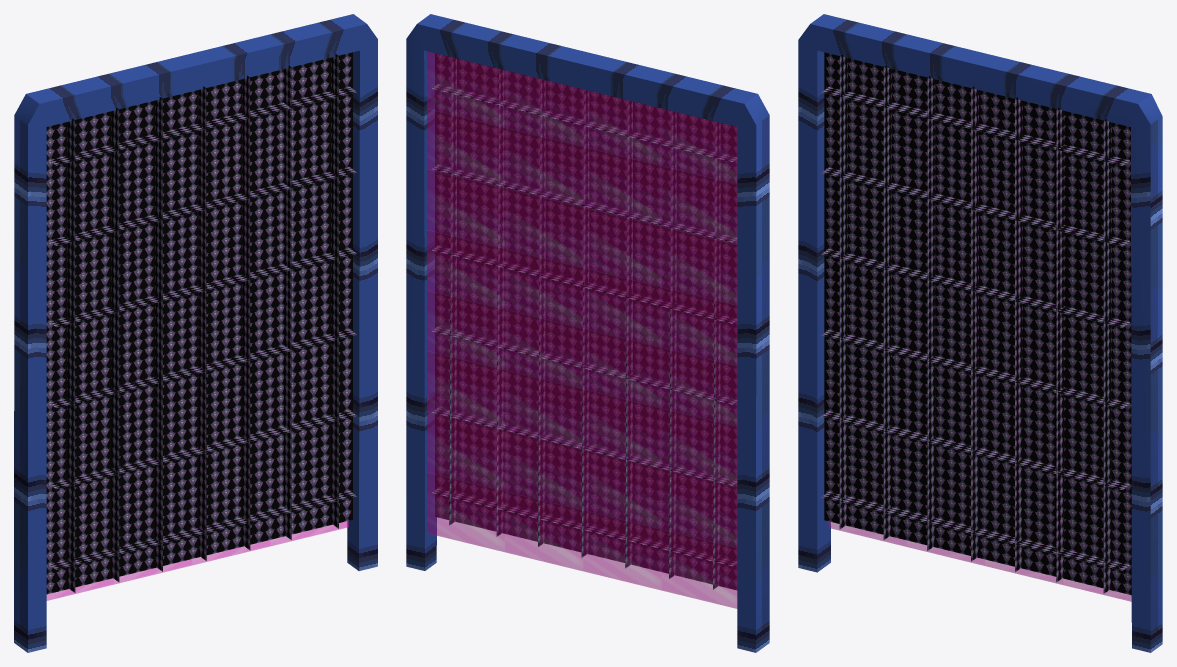
3 renders of one model, left to right at view 1: azimuth 30°, elevation 25°; view 2: azimuth 150°, elevation 25°; view 3: azimuth 330°, elevation 25°, orthographic.
Visible parts, largest first — view 1: 3932kg3_gs24; view 2: 3932kg3_gs24; view 3: 3932kg3_gs24.
Boxes of the visible parts, x1=… form: 3932kg3_gs24: x1=14, y1=14, x2=377, y2=652; 3932kg3_gs24: x1=406, y1=14, x2=769, y2=652; 3932kg3_gs24: x1=798, y1=14, x2=1162, y2=652.
Bounding box in the file's own units: 1.32 × 1.96 × 0.1094.
3 materials, 3 textured.
